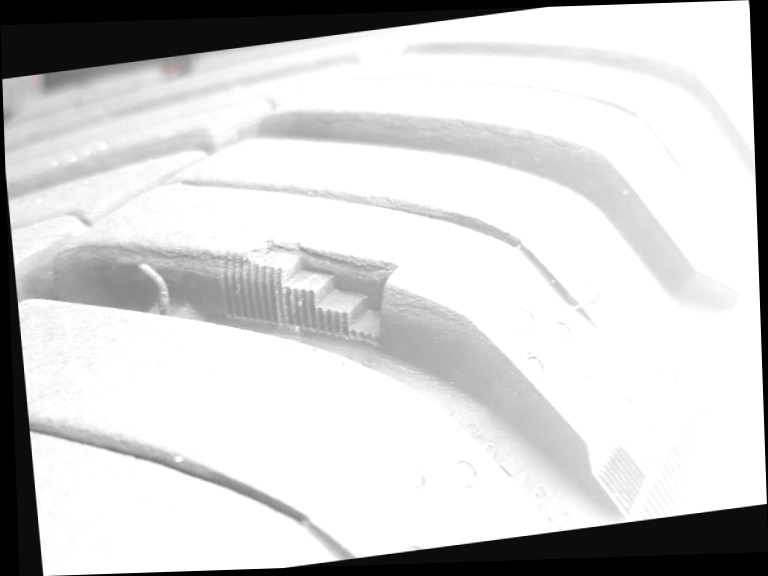temoin:90: (207, 208, 414, 380)
